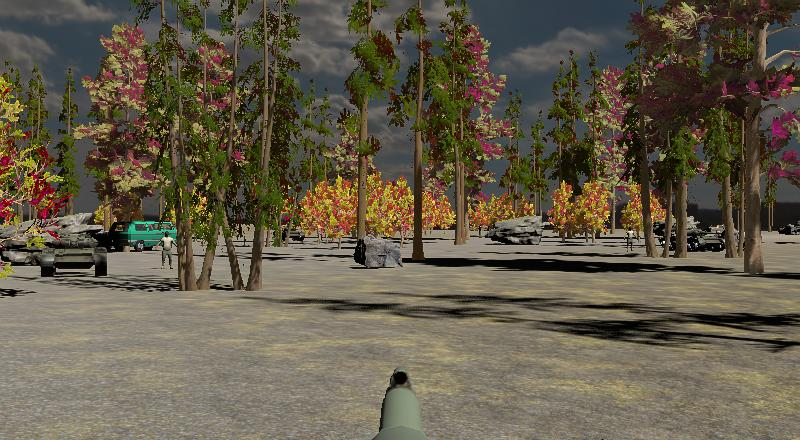Human: (155, 231, 178, 269)
Tank: (40, 234, 109, 279)
car: (125, 221, 185, 251)
